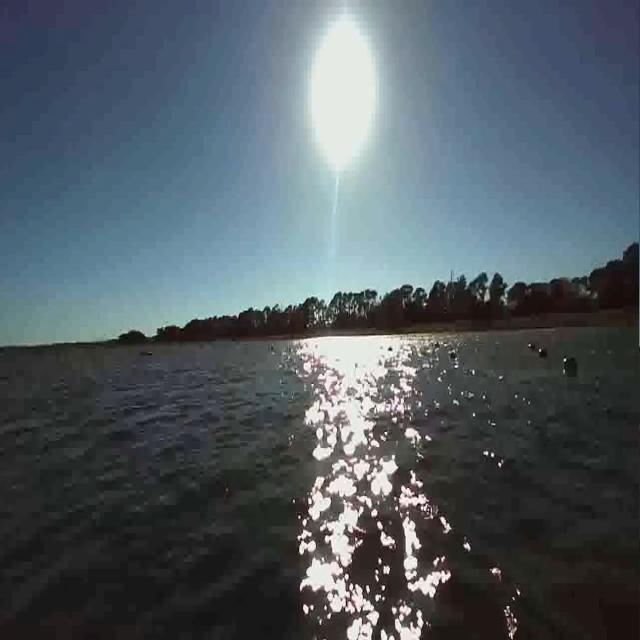black-buoy: (564, 355, 578, 377)
